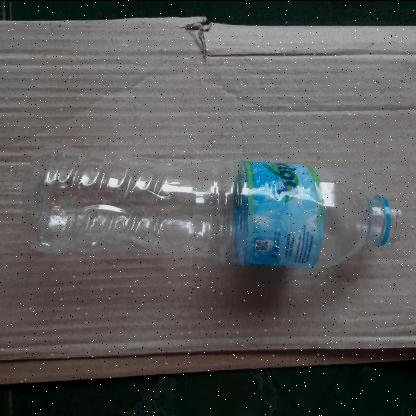Plastic Bottle: (23, 144, 407, 266)
